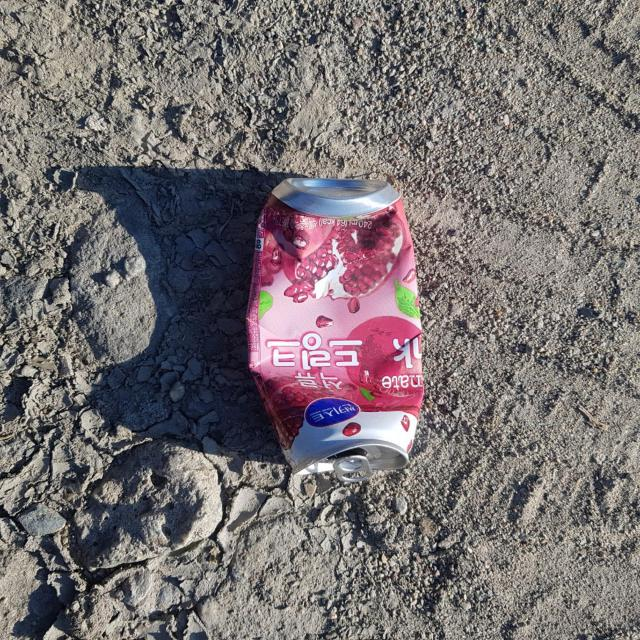can: (246, 178, 424, 483)
